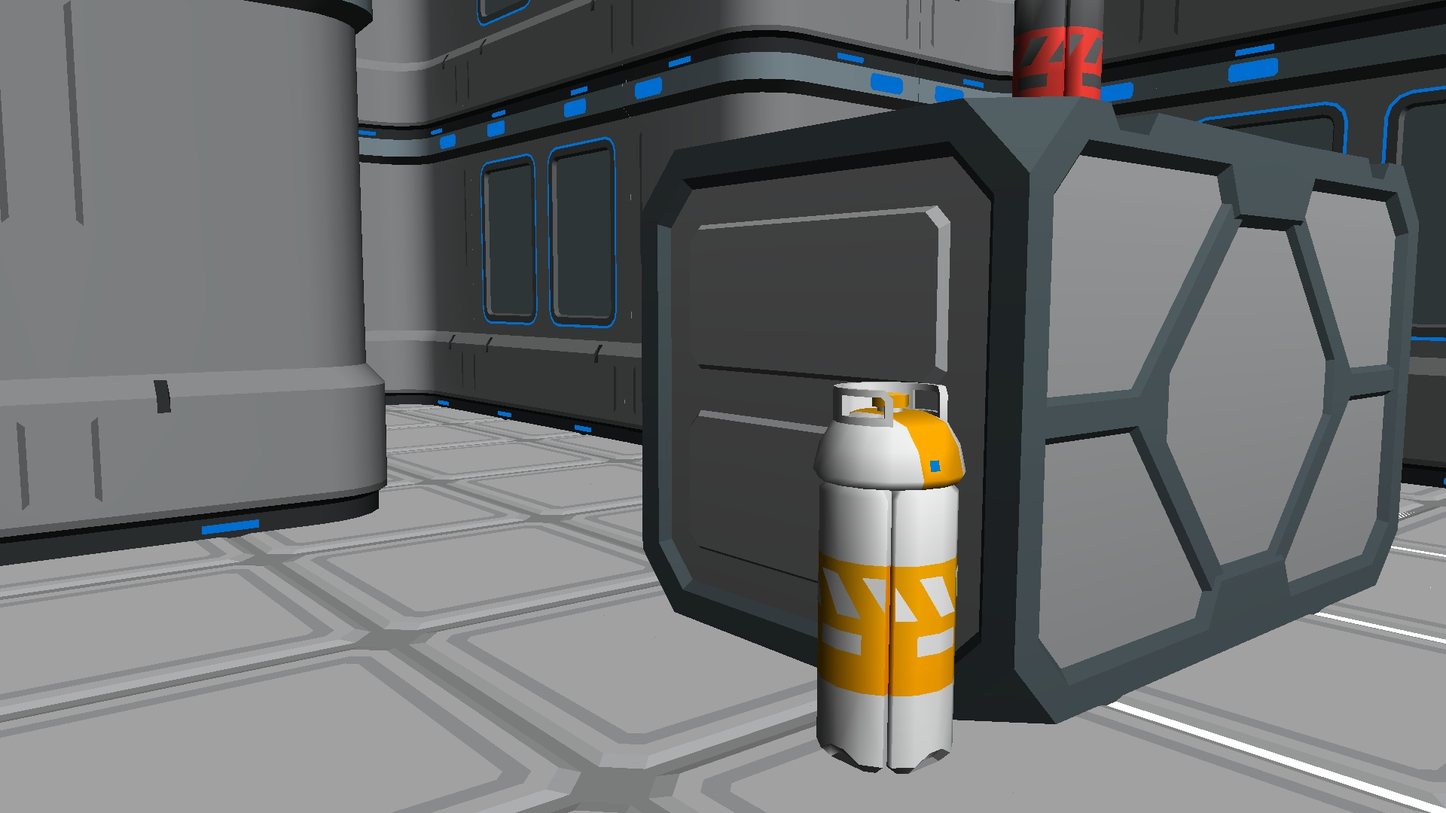red barrel: (1013, 0, 1105, 100)
yellow barrel: (814, 381, 966, 773)
